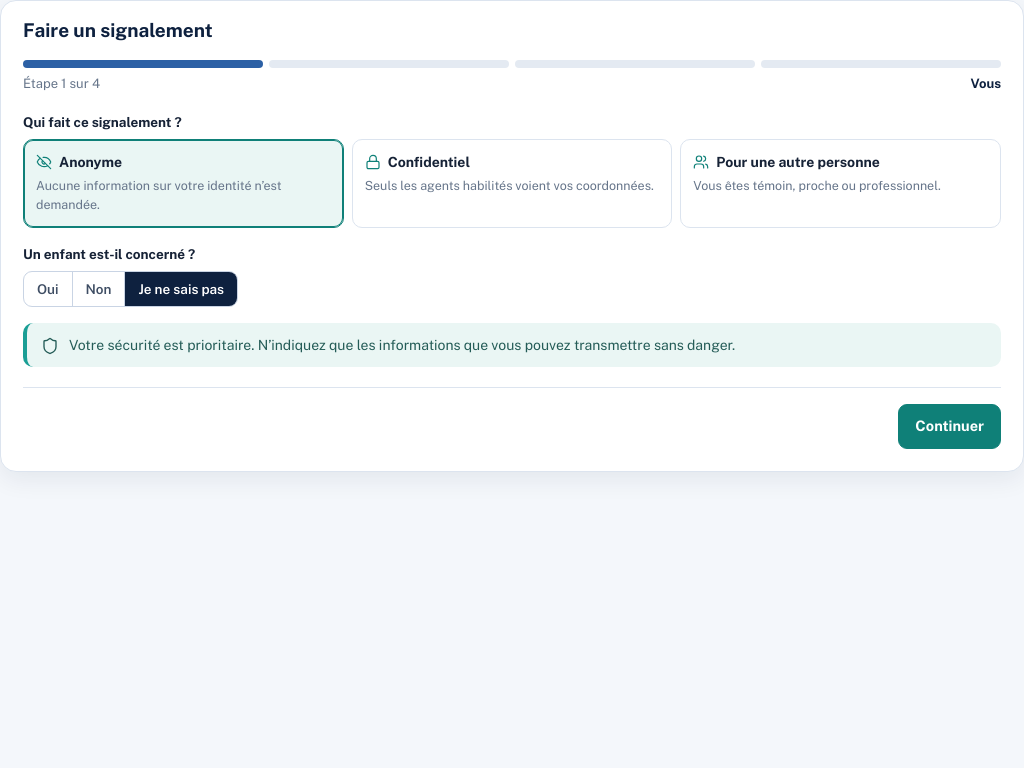
formulaire de signalement › n’affiche l’alerte secours que si un danger immédiat est signalé
Click the button "Continuer".
click(950, 427)  # box [898, 404, 1001, 449]
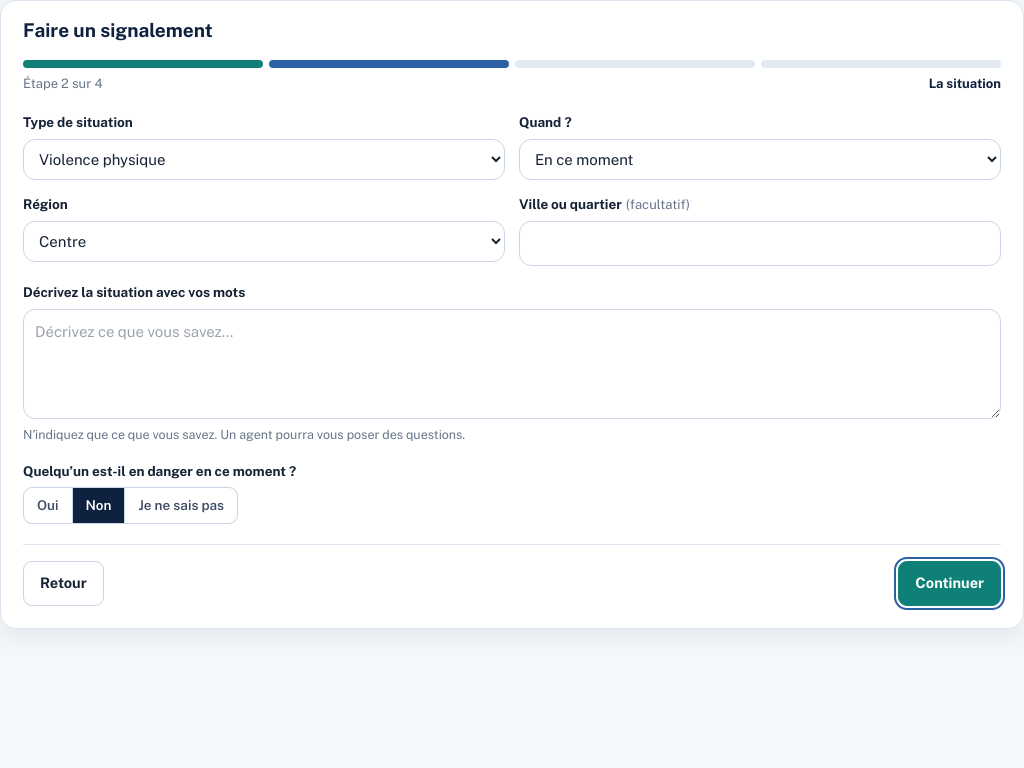
expect the text "Appelez d’abord les secours si vous le pouvez" is not shown: met
Click the button "Oui".
click(48, 506)  # box [24, 488, 72, 523]
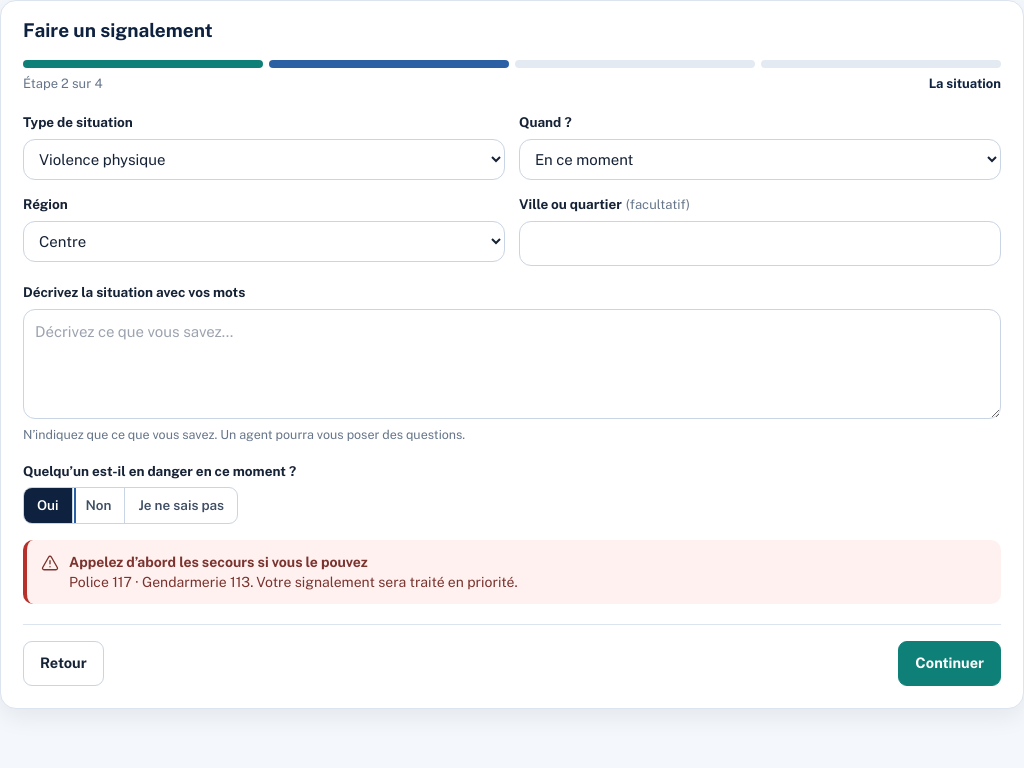
expect the text "Appelez d’abord les secours si vous le pouvez" is shown: met, box [69, 554, 368, 570]
